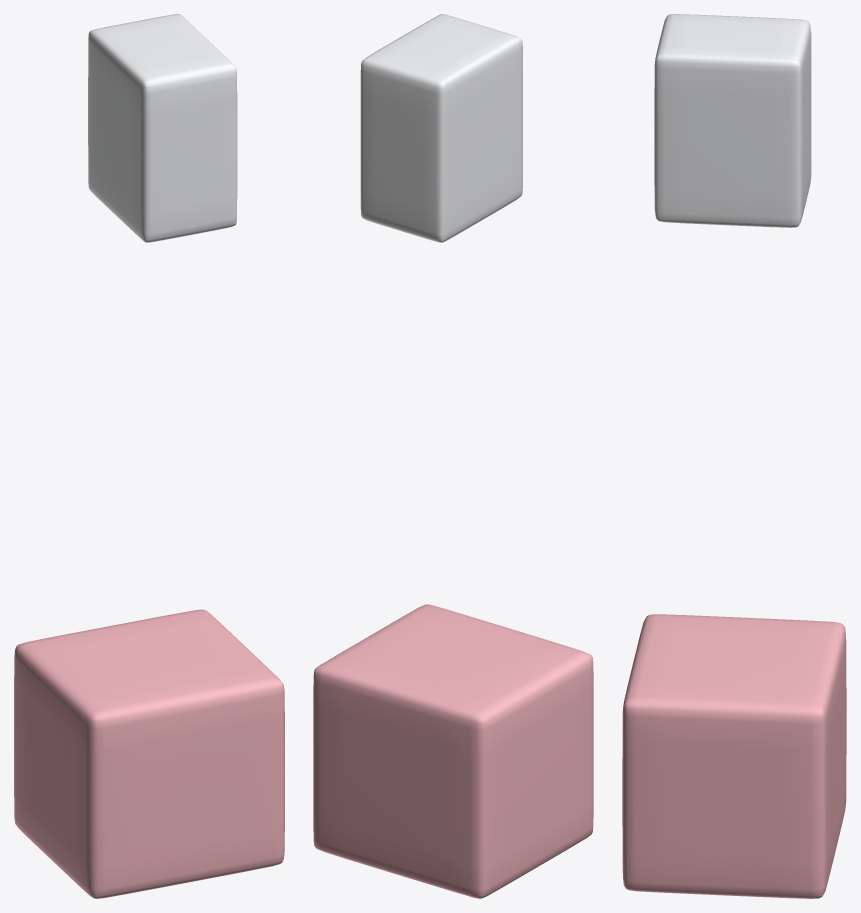
The model's file is PROP_ToyCar_v0.glb.
3 renders of one model, left to right at view 1: azimuth 30°, elevation 25°; view 2: azimuth 150°, elevation 25°; view 3: azimuth 270°, elevation 25°, orthographic. The views are drawn at different scales.
Parts seen in each view (by area): view 1: PROP_ToyCar_v0; view 2: PROP_ToyCar_v0; view 3: PROP_ToyCar_v0.
Boxes of the visible parts, bbox=[...] form: PROP_ToyCar_v0: bbox=[14, 14, 284, 898]; PROP_ToyCar_v0: bbox=[313, 14, 593, 898]; PROP_ToyCar_v0: bbox=[622, 14, 846, 898].
Bounding box in the file's own units: 1.12 × 4.24 × 1.05.
